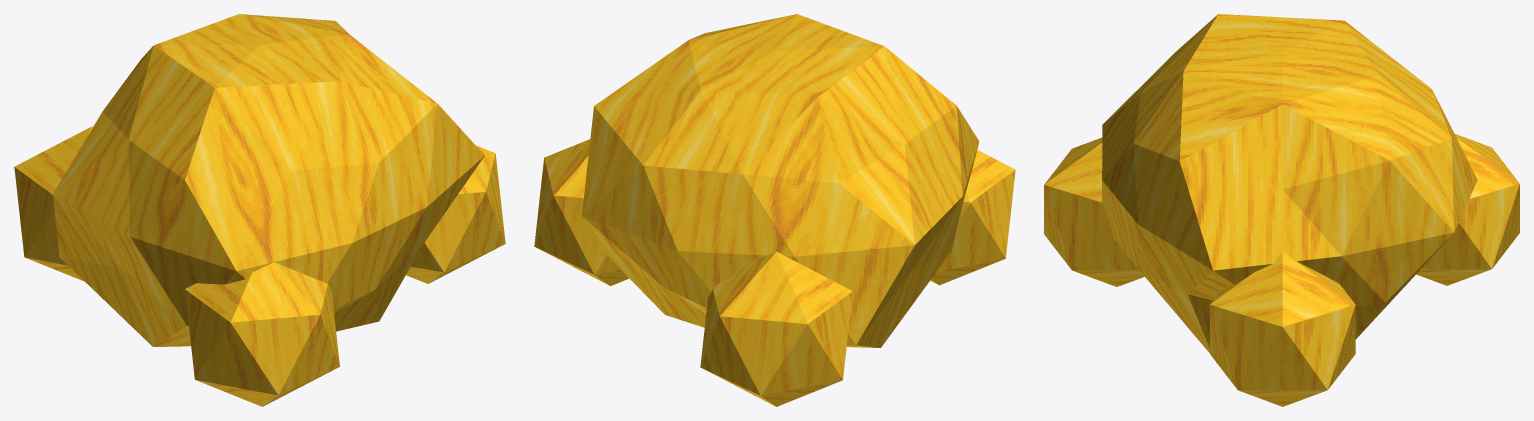
Rendered from goldrock.glb.
3 renders of one model, left to right at view 1: azimuth 30°, elevation 25°; view 2: azimuth 150°, elevation 25°; view 3: azimuth 270°, elevation 25°, orthographic.
Visible parts, largest first — view 1: Rock, Pebble2, Pebble0, Pebble1; view 2: Rock, Pebble1, Pebble0, Pebble2; view 3: Rock, Pebble0, Pebble2, Pebble1.
Boxes of the visible parts, x1,y1,x2,y2 form: Rock: [53, 14, 484, 346]; Pebble2: [185, 262, 339, 406]; Pebble0: [406, 145, 505, 283]; Pebble1: [14, 126, 92, 281]; Rock: [582, 14, 979, 347]; Pebble1: [700, 251, 852, 406]; Pebble0: [534, 139, 628, 285]; Pebble2: [930, 150, 1015, 285]; Rock: [1102, 14, 1477, 352]; Pebble0: [1210, 252, 1355, 406]; Pebble2: [1044, 137, 1144, 286]; Pebble1: [1416, 134, 1519, 285].
Bounding box in the file's own units: 2.44 × 1.6 × 2.5.
1 material, 1 textured.
